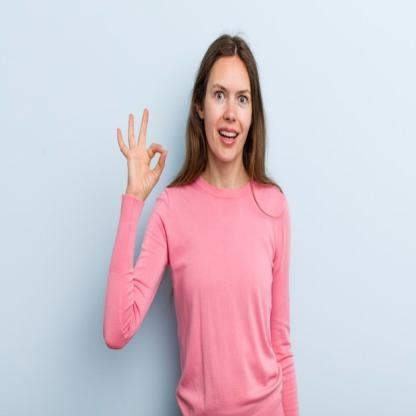stop: (113, 104, 169, 196)
